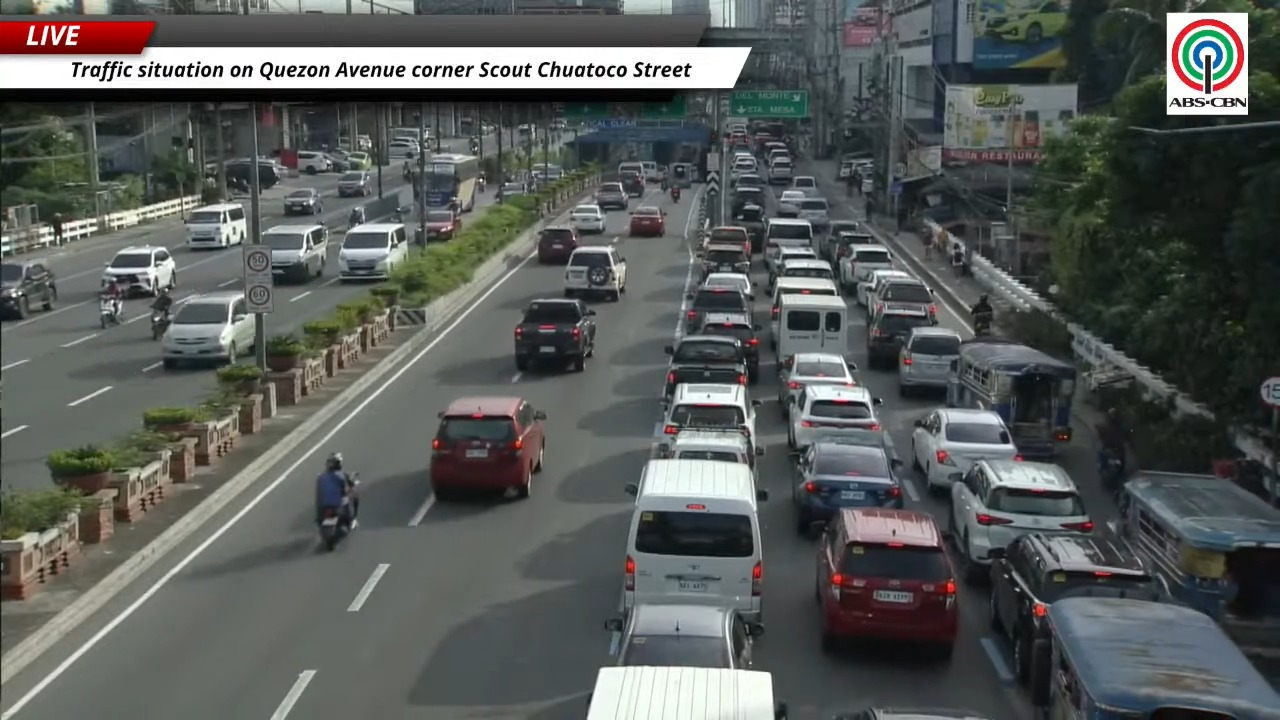bus: (422, 154, 479, 211)
car: (989, 533, 1162, 683), (815, 508, 958, 657), (950, 459, 1093, 582), (429, 396, 545, 499), (792, 440, 902, 534), (606, 603, 762, 668), (911, 408, 1020, 490), (161, 291, 254, 368), (660, 383, 759, 446), (788, 383, 881, 448), (778, 353, 857, 418), (651, 428, 764, 473), (866, 302, 933, 368), (898, 326, 960, 395), (699, 313, 760, 382), (338, 223, 408, 281), (982, 0, 1067, 44), (101, 245, 175, 295), (563, 245, 626, 301), (0, 260, 57, 319), (866, 277, 937, 323), (684, 285, 751, 332), (838, 245, 892, 293), (766, 247, 817, 292), (823, 221, 877, 262), (855, 269, 912, 307), (731, 198, 766, 255), (831, 707, 990, 719), (699, 243, 749, 280), (778, 251, 834, 281), (703, 225, 752, 259), (537, 226, 580, 263), (701, 272, 754, 299), (424, 209, 462, 240), (797, 196, 829, 232), (628, 206, 665, 236), (283, 188, 323, 215), (730, 185, 766, 215), (569, 204, 606, 233), (594, 182, 629, 210), (338, 169, 371, 196), (297, 151, 332, 174), (828, 219, 864, 240), (767, 155, 793, 183), (388, 139, 421, 159), (730, 156, 756, 181), (619, 173, 645, 197), (497, 182, 528, 201), (733, 173, 765, 191), (792, 175, 819, 196), (778, 190, 807, 209), (326, 150, 349, 172), (346, 152, 371, 170)
motorcycle: (318, 496, 351, 550), (1098, 449, 1125, 497), (99, 298, 122, 328), (150, 310, 170, 340), (972, 313, 992, 335), (348, 213, 364, 229), (477, 175, 486, 192), (670, 187, 680, 202)
truck: (651, 428, 764, 481), (514, 298, 595, 371), (664, 335, 747, 398)
